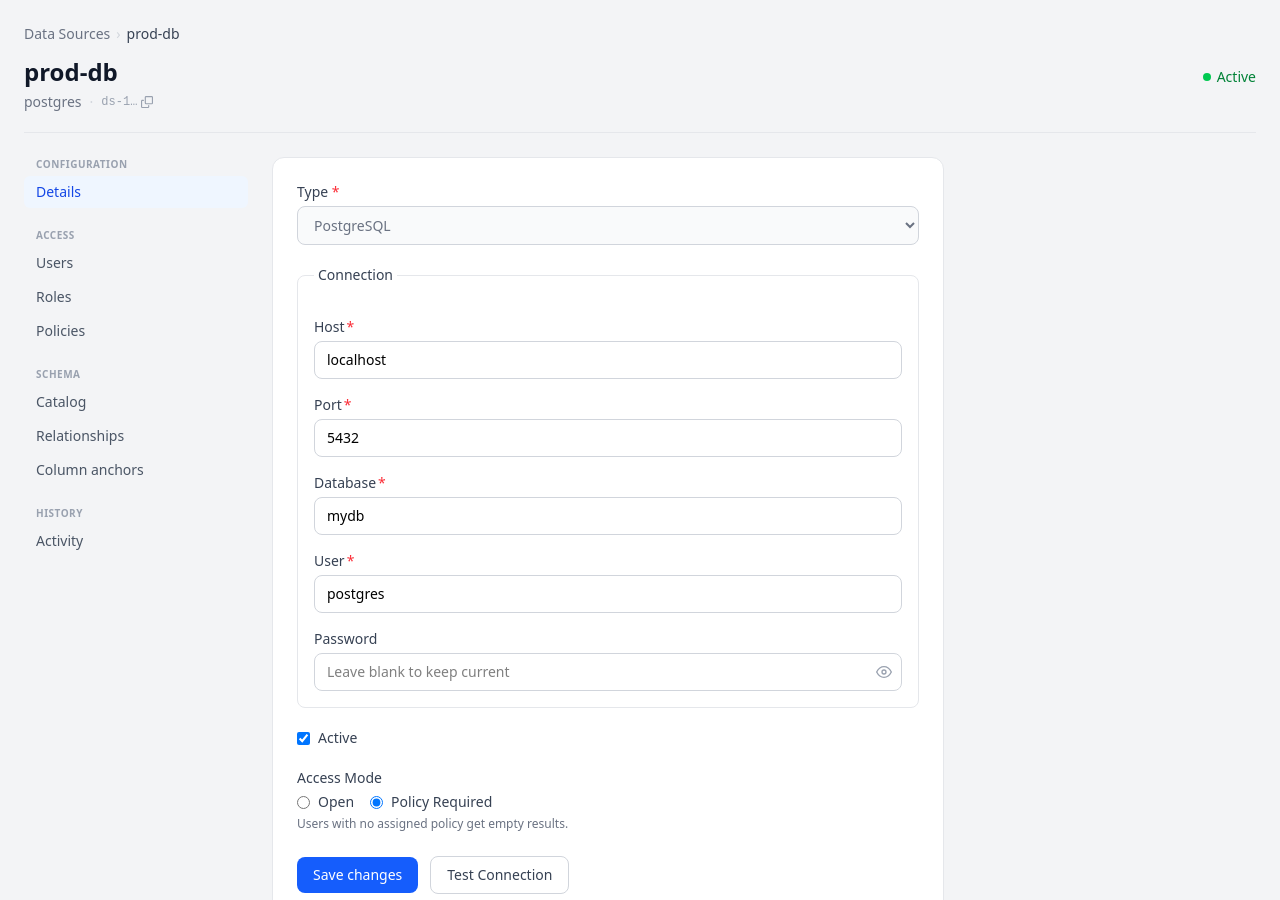
Test: DataSourceEditPage › renders UserAssignmentPanel under the Users section
The width and height of the screenshot is (1280, 900).
expect the button "Save changes" is shown: met, box [297,857,418,893]
Click the button "Users": click(136, 263) [24,247,248,279]
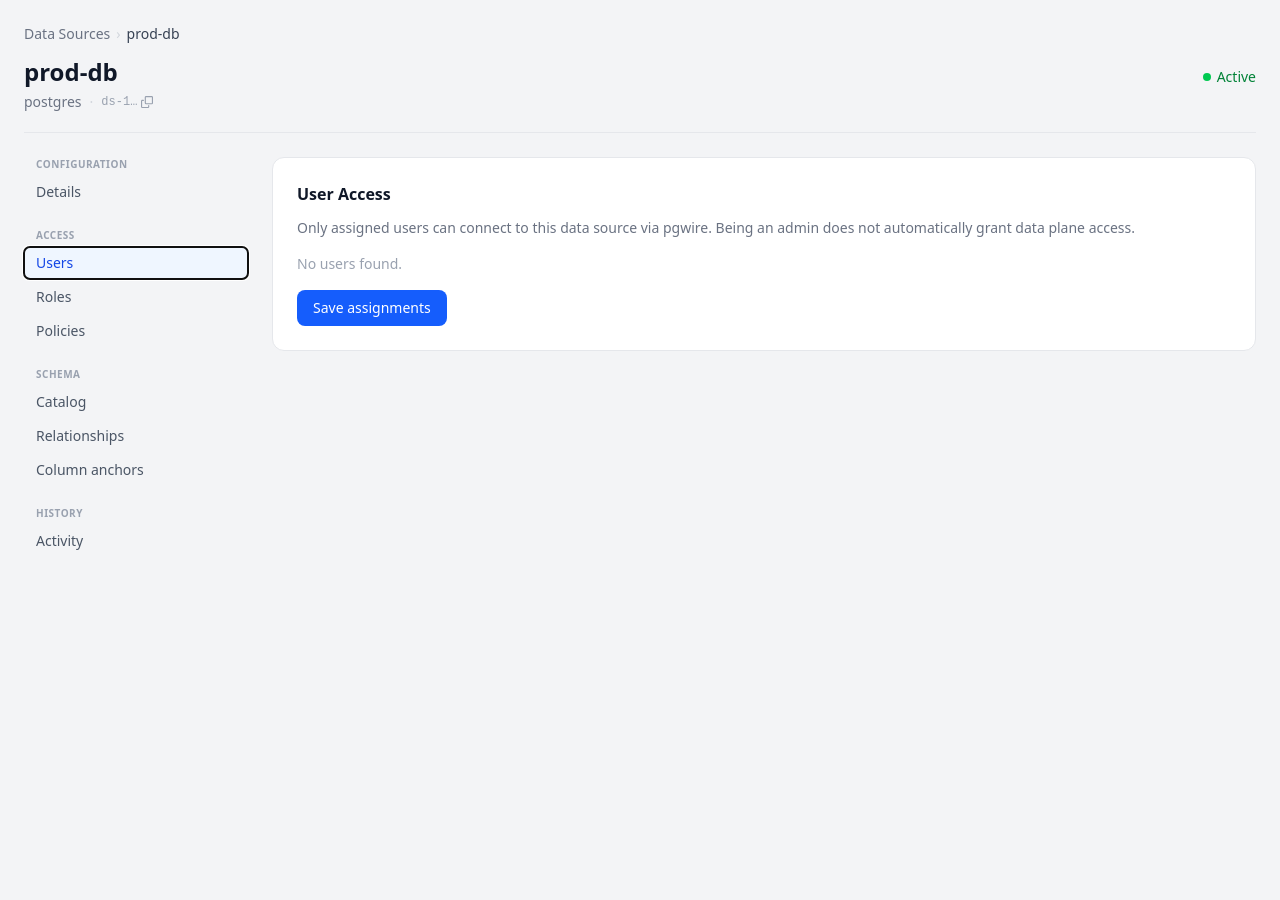
expect the button "Save assignments" is shown: met, box [297,290,447,326]
expect the heading "User Access" is shown: met, box [297,183,391,205]
